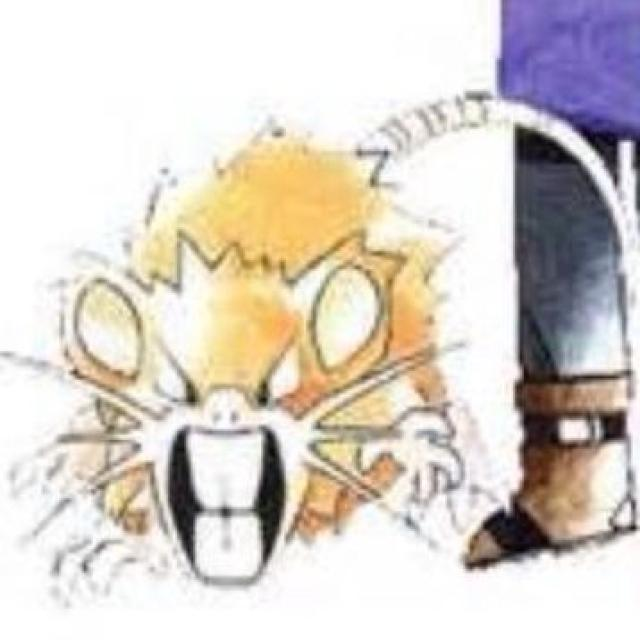Raticate: (43, 117, 474, 615)
